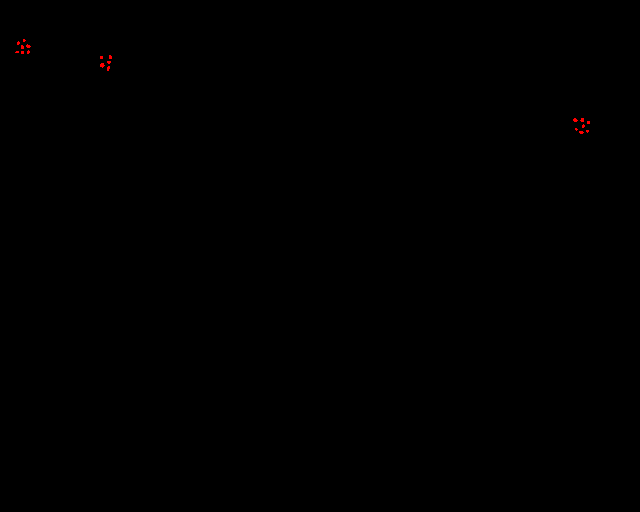Target: (100, 63, 105, 68), (26, 44, 31, 48), (573, 118, 578, 122), (580, 118, 584, 122), (107, 66, 110, 71), (579, 131, 584, 134), (17, 41, 20, 45), (21, 45, 24, 49), (27, 50, 30, 54), (109, 55, 112, 59), (107, 61, 111, 64), (582, 124, 585, 128), (23, 39, 26, 42), (21, 51, 24, 54), (100, 56, 103, 59), (587, 121, 590, 124), (575, 128, 578, 131), (586, 130, 589, 133), (15, 51, 19, 53)
